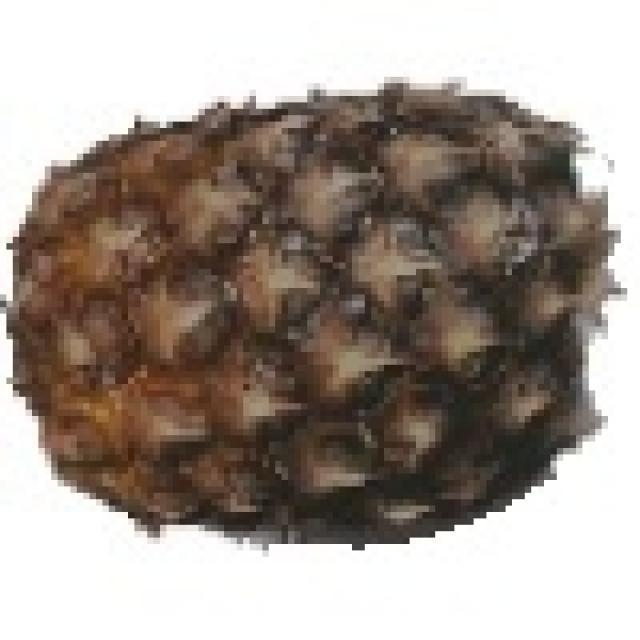pineapple: (6, 77, 602, 525)
